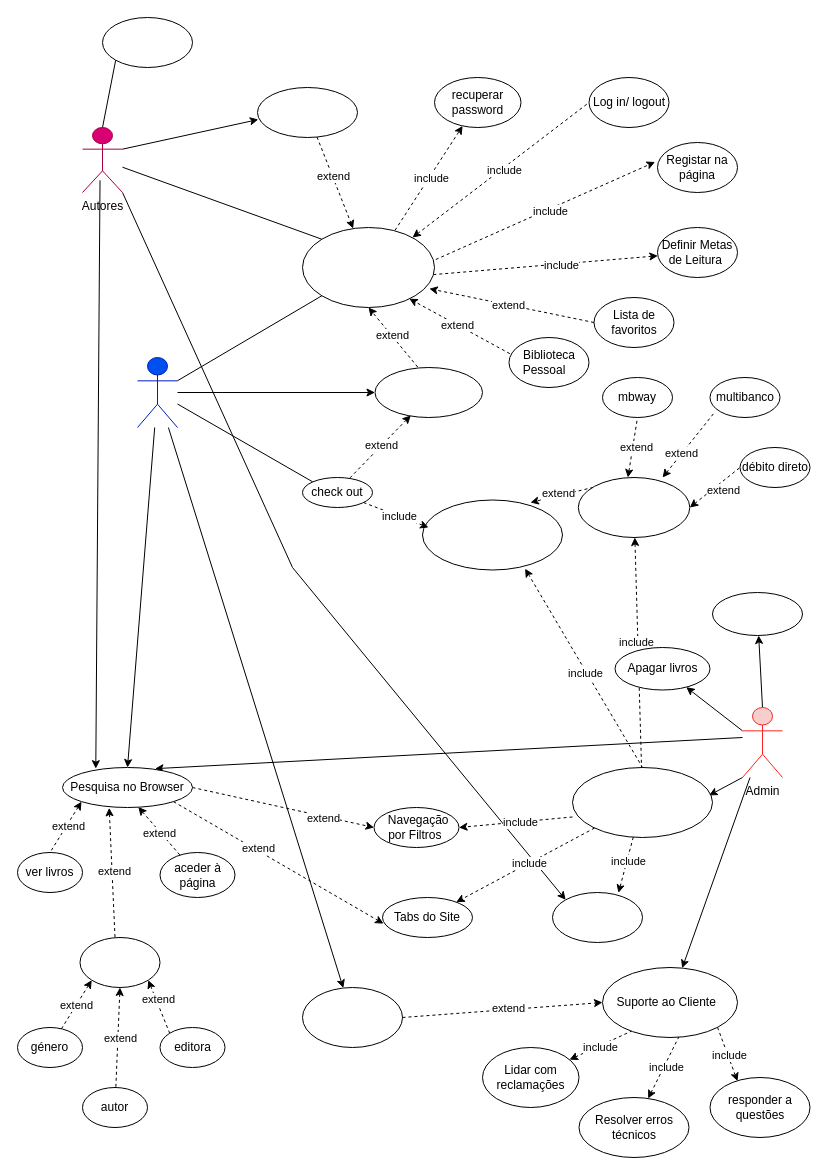
Image size: 828x1175. Some labels were removed from this diagram. Each missing label, with the box of its shape:
Adicionar livros: (712, 592, 802, 636)
Alterações/ atualizações no sistema: (572, 766, 712, 838)
Autenticação: (302, 226, 434, 308)
links redes Sociais: (552, 892, 642, 942)
Métodos de Pagamento: (577, 476, 690, 538)
Pagamento: (422, 499, 562, 570)
pedir auxilio: (302, 986, 402, 1048)
pesquisar por filtros: (79, 936, 160, 988)
providenciar livros: (102, 16, 192, 68)
Talk to the Author: (256, 86, 358, 138)
Usuário: (136, 356, 178, 428)
Ver/ Atualizar o carrinho: (374, 366, 482, 418)
